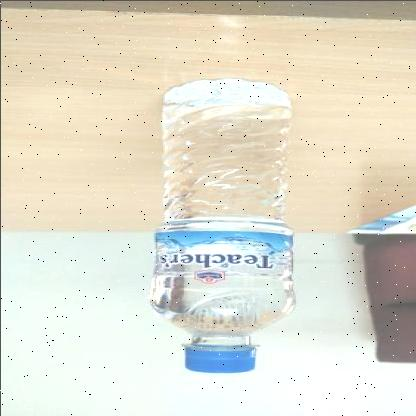Plastic Bottle: (148, 77, 294, 373)
